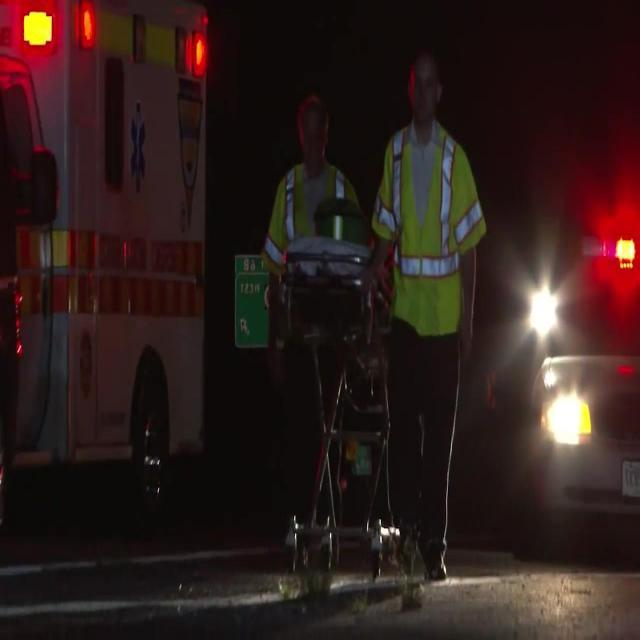reflective_jacket: (364, 121, 496, 365), (256, 156, 356, 311)
safety_helmet: (395, 38, 454, 123), (285, 82, 338, 162)
